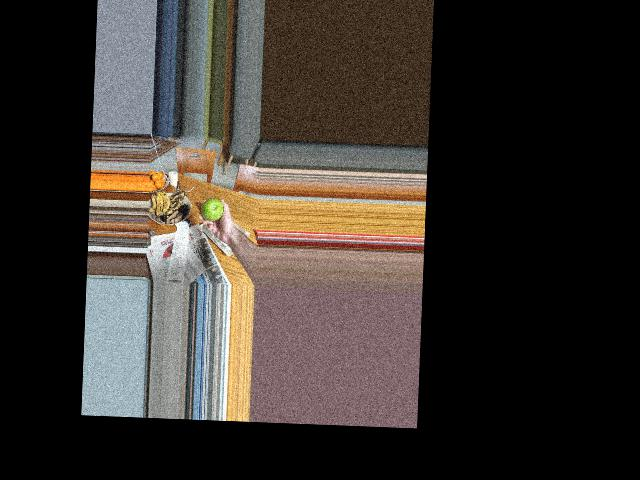apple: (200, 194, 224, 223)
